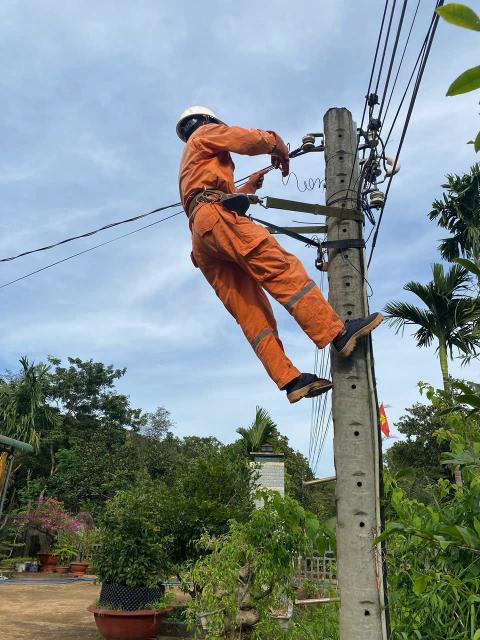gloves: (263, 125, 301, 178), (221, 172, 277, 202)
harness: (179, 182, 259, 218)
helmet: (165, 102, 250, 141)
shoes: (308, 302, 387, 358), (265, 372, 347, 405)
